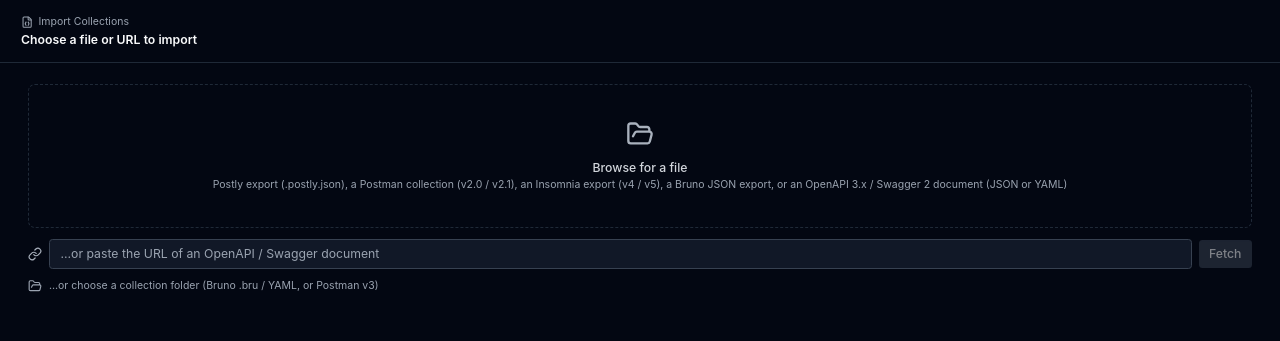
Test case: ImportPage › fetches a URL, parses it with sourceUrl context, and renders preview warnings for empty results
The image size is (1280, 341).
Type "  https://example.com/openapi.yaml  " into the field with test id "import-url" at [620, 254], box [49, 238, 1192, 268]
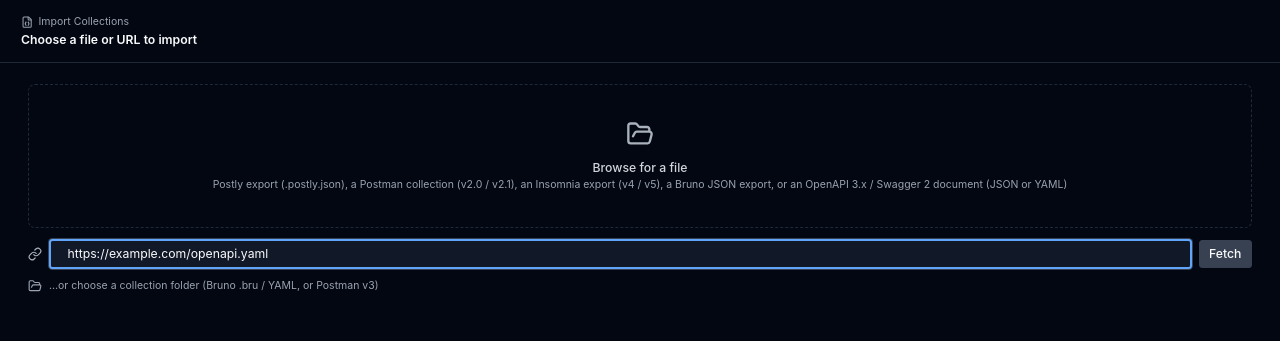
Click the button with test id "import-url-fetch" at [1225, 254], box [1198, 240, 1252, 268]
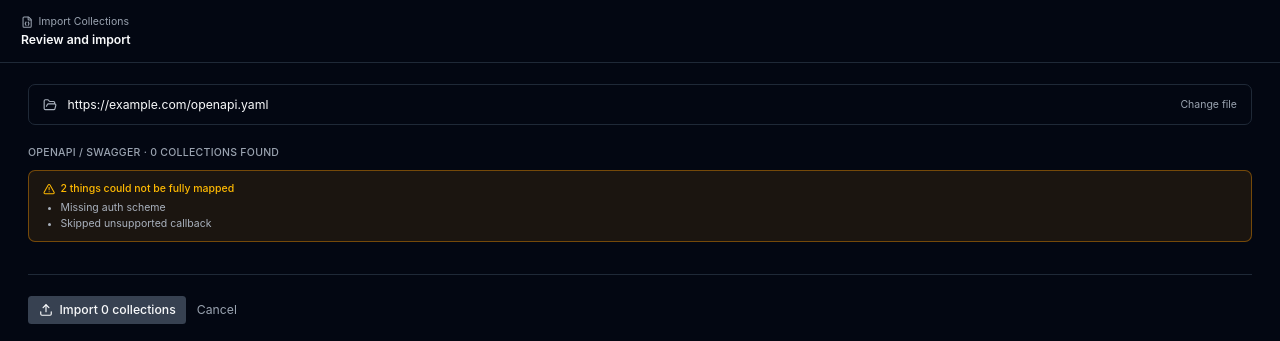
Expected: the text with test id "import-format" reads "OpenAPI / Swagger · 0 collections found", [28, 146, 279, 159]
Expected: the element with test id "import-warnings" shows "2 things could not be fully mapped", [28, 170, 1252, 242]
Expected: the list item "Missing auth scheme" is shown, [60, 201, 166, 214]
